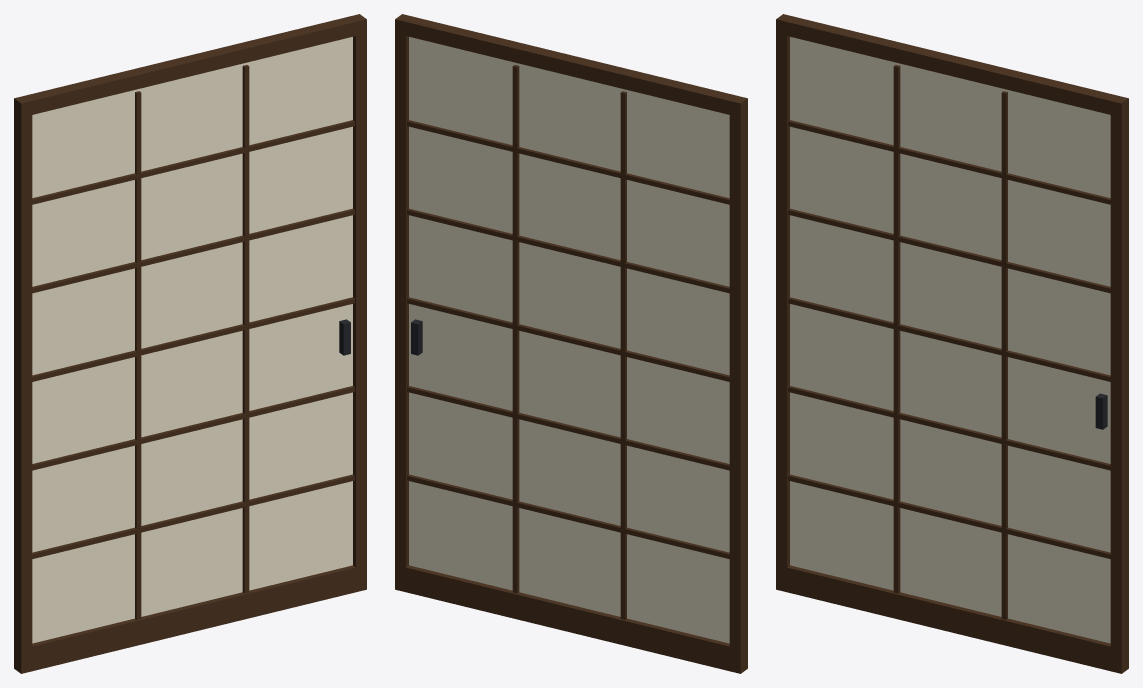
Rendered from SM_Door_shoji_140x220.fbx.
3 views of the same model, side by side, from view 1: azimuth 30°, elevation 25°; view 2: azimuth 150°, elevation 25°; view 3: azimuth 330°, elevation 25° (orthographic).
Visible parts, largest first — view 1: SM_Door_shoji_140x220; view 2: SM_Door_shoji_140x220; view 3: SM_Door_shoji_140x220.
Part boxes in pixels (bbox=[...]): SM_Door_shoji_140x220: bbox=[14, 14, 366, 673]; SM_Door_shoji_140x220: bbox=[395, 14, 747, 673]; SM_Door_shoji_140x220: bbox=[776, 14, 1128, 673].
Size of the model in its own units: 1.39 by 2.19 by 0.07.
